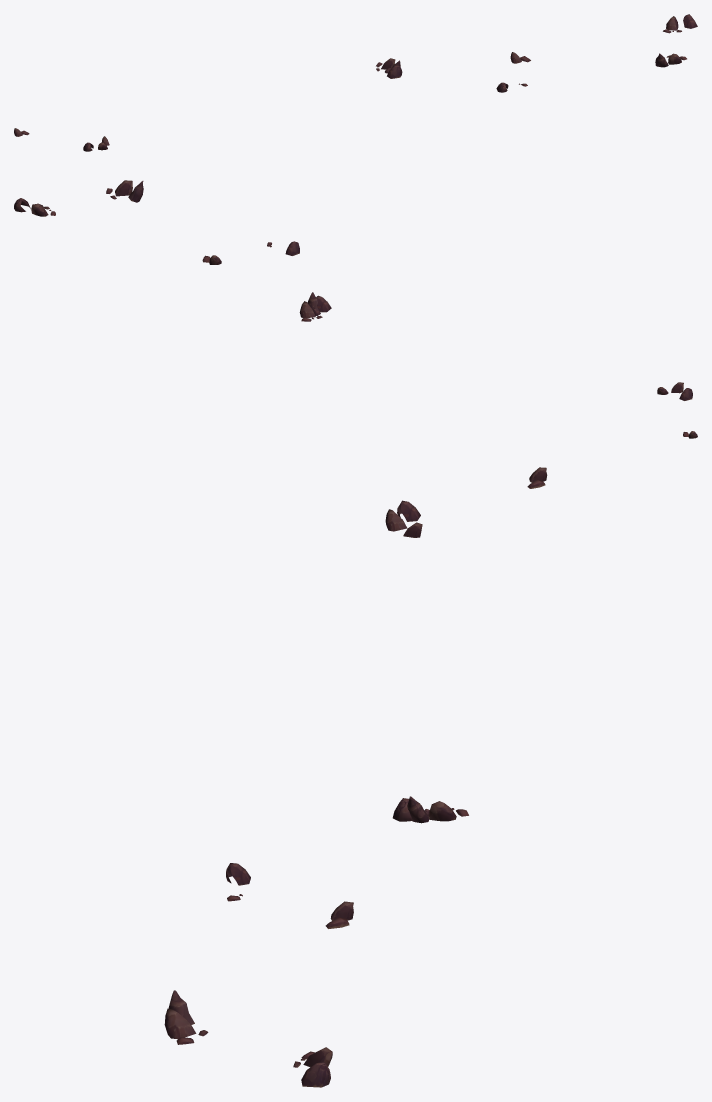
Rendered from area_04_shanshi01.FBX.
3 views of the same model, one above another, from view 1: azimuth 30°, elevation 25°; view 2: azimuth 150°, elevation 25°; view 3: azimuth 270°, elevation 25° (orthographic). The views are drawn at different scales.
Visible parts, largest first — view 1: area_04_shanshi01; view 2: area_04_shanshi01; view 3: area_04_shanshi01.
Boxes of the visible parts, bbox=[...] form: area_04_shanshi01: bbox=[14, 14, 697, 151]; area_04_shanshi01: bbox=[14, 180, 697, 438]; area_04_shanshi01: bbox=[164, 467, 547, 1087].
Size of the model in its own units: 12519 by 290 by 3317.
